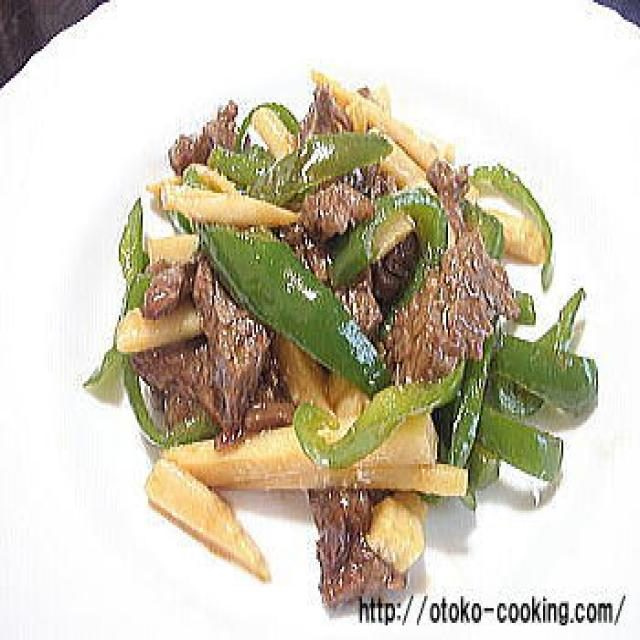牛肉菜式: (55, 61, 640, 572)
